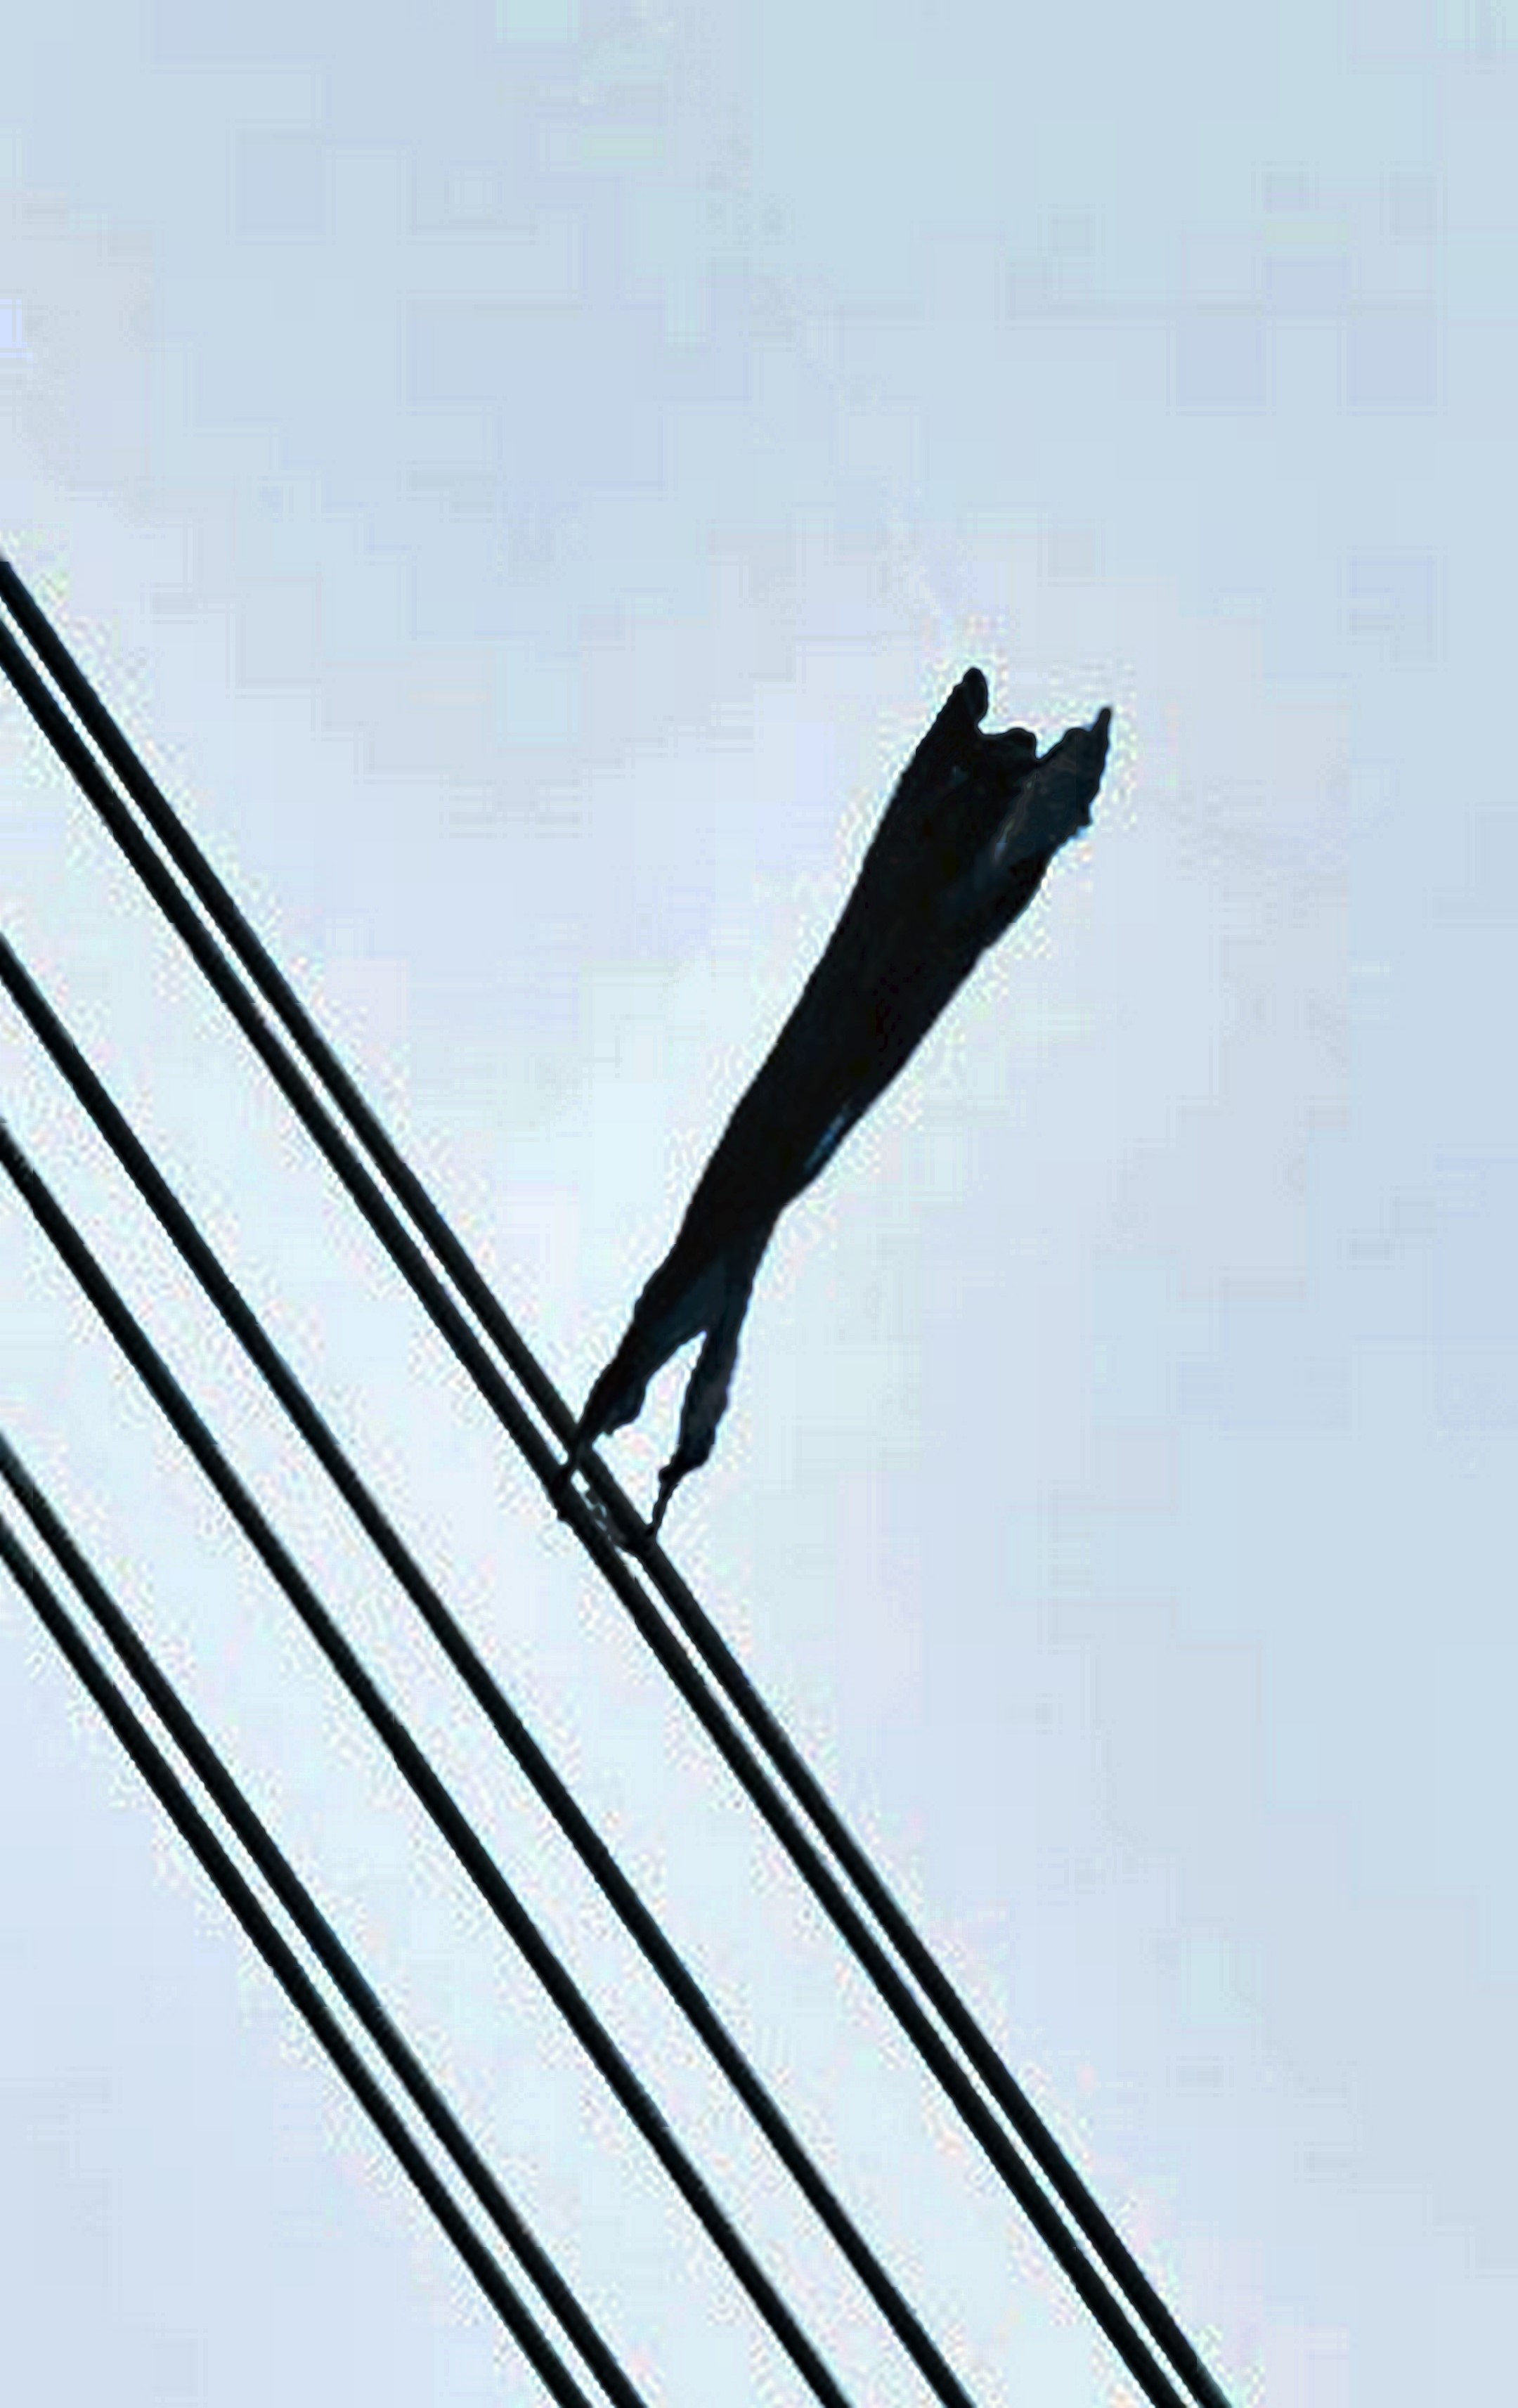wire foreign body: (493, 633, 1179, 1618)
